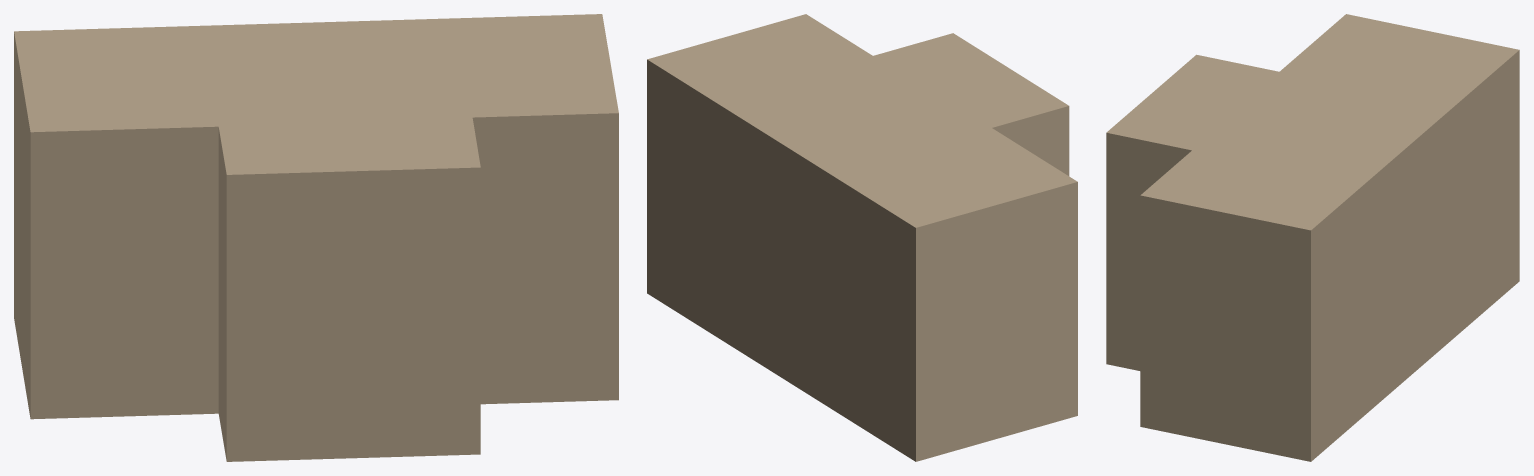
Rendered from bld_101353623.dae.
3 renders of one model, left to right at view 1: azimuth 30°, elevation 25°; view 2: azimuth 150°, elevation 25°; view 3: azimuth 270°, elevation 25°, orthographic. The views are drawn at different scales.
Visible parts, largest first — view 1: bld_101353623; view 2: bld_101353623; view 3: bld_101353623.
Boxes of the visible parts, x1,y1,x2,y2 form: bld_101353623: (14, 14, 618, 461); bld_101353623: (647, 14, 1077, 461); bld_101353623: (1106, 14, 1519, 461).
Bounding box in the file's own units: 16.04 × 12.95 × 8.
